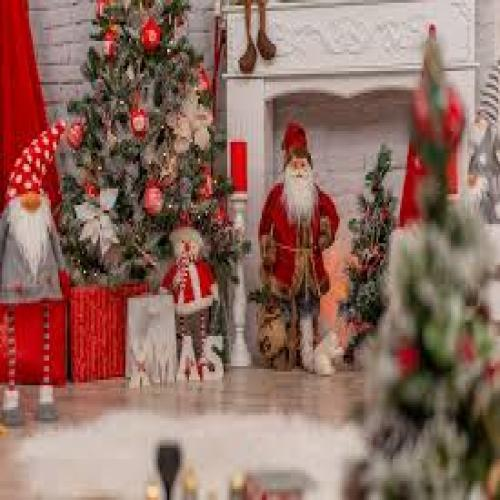Santa: (257, 117, 341, 372)
